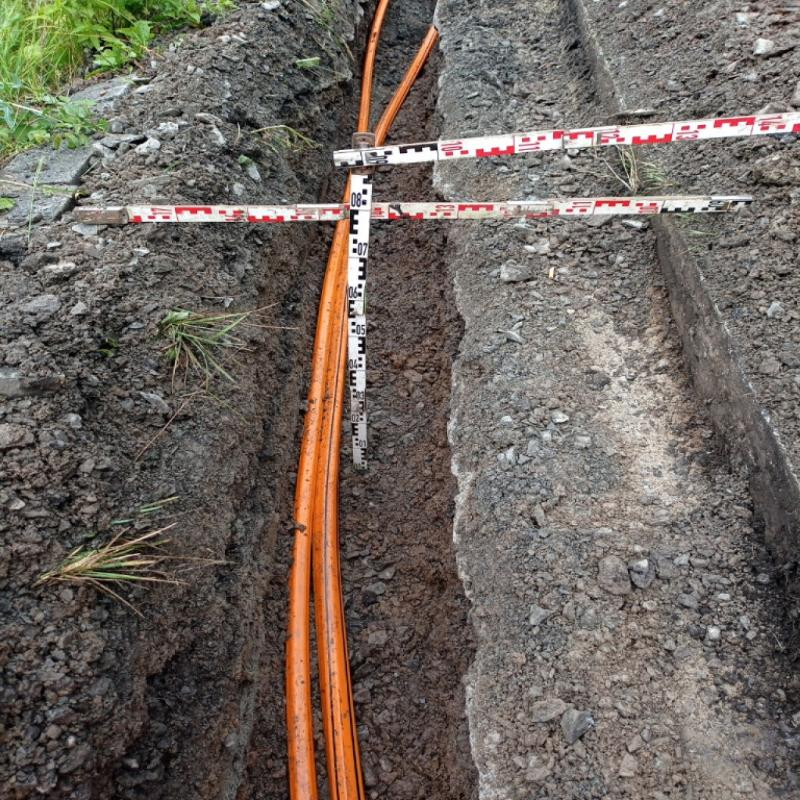Orang-Speednetrohrchen: (286, 224, 362, 800)
